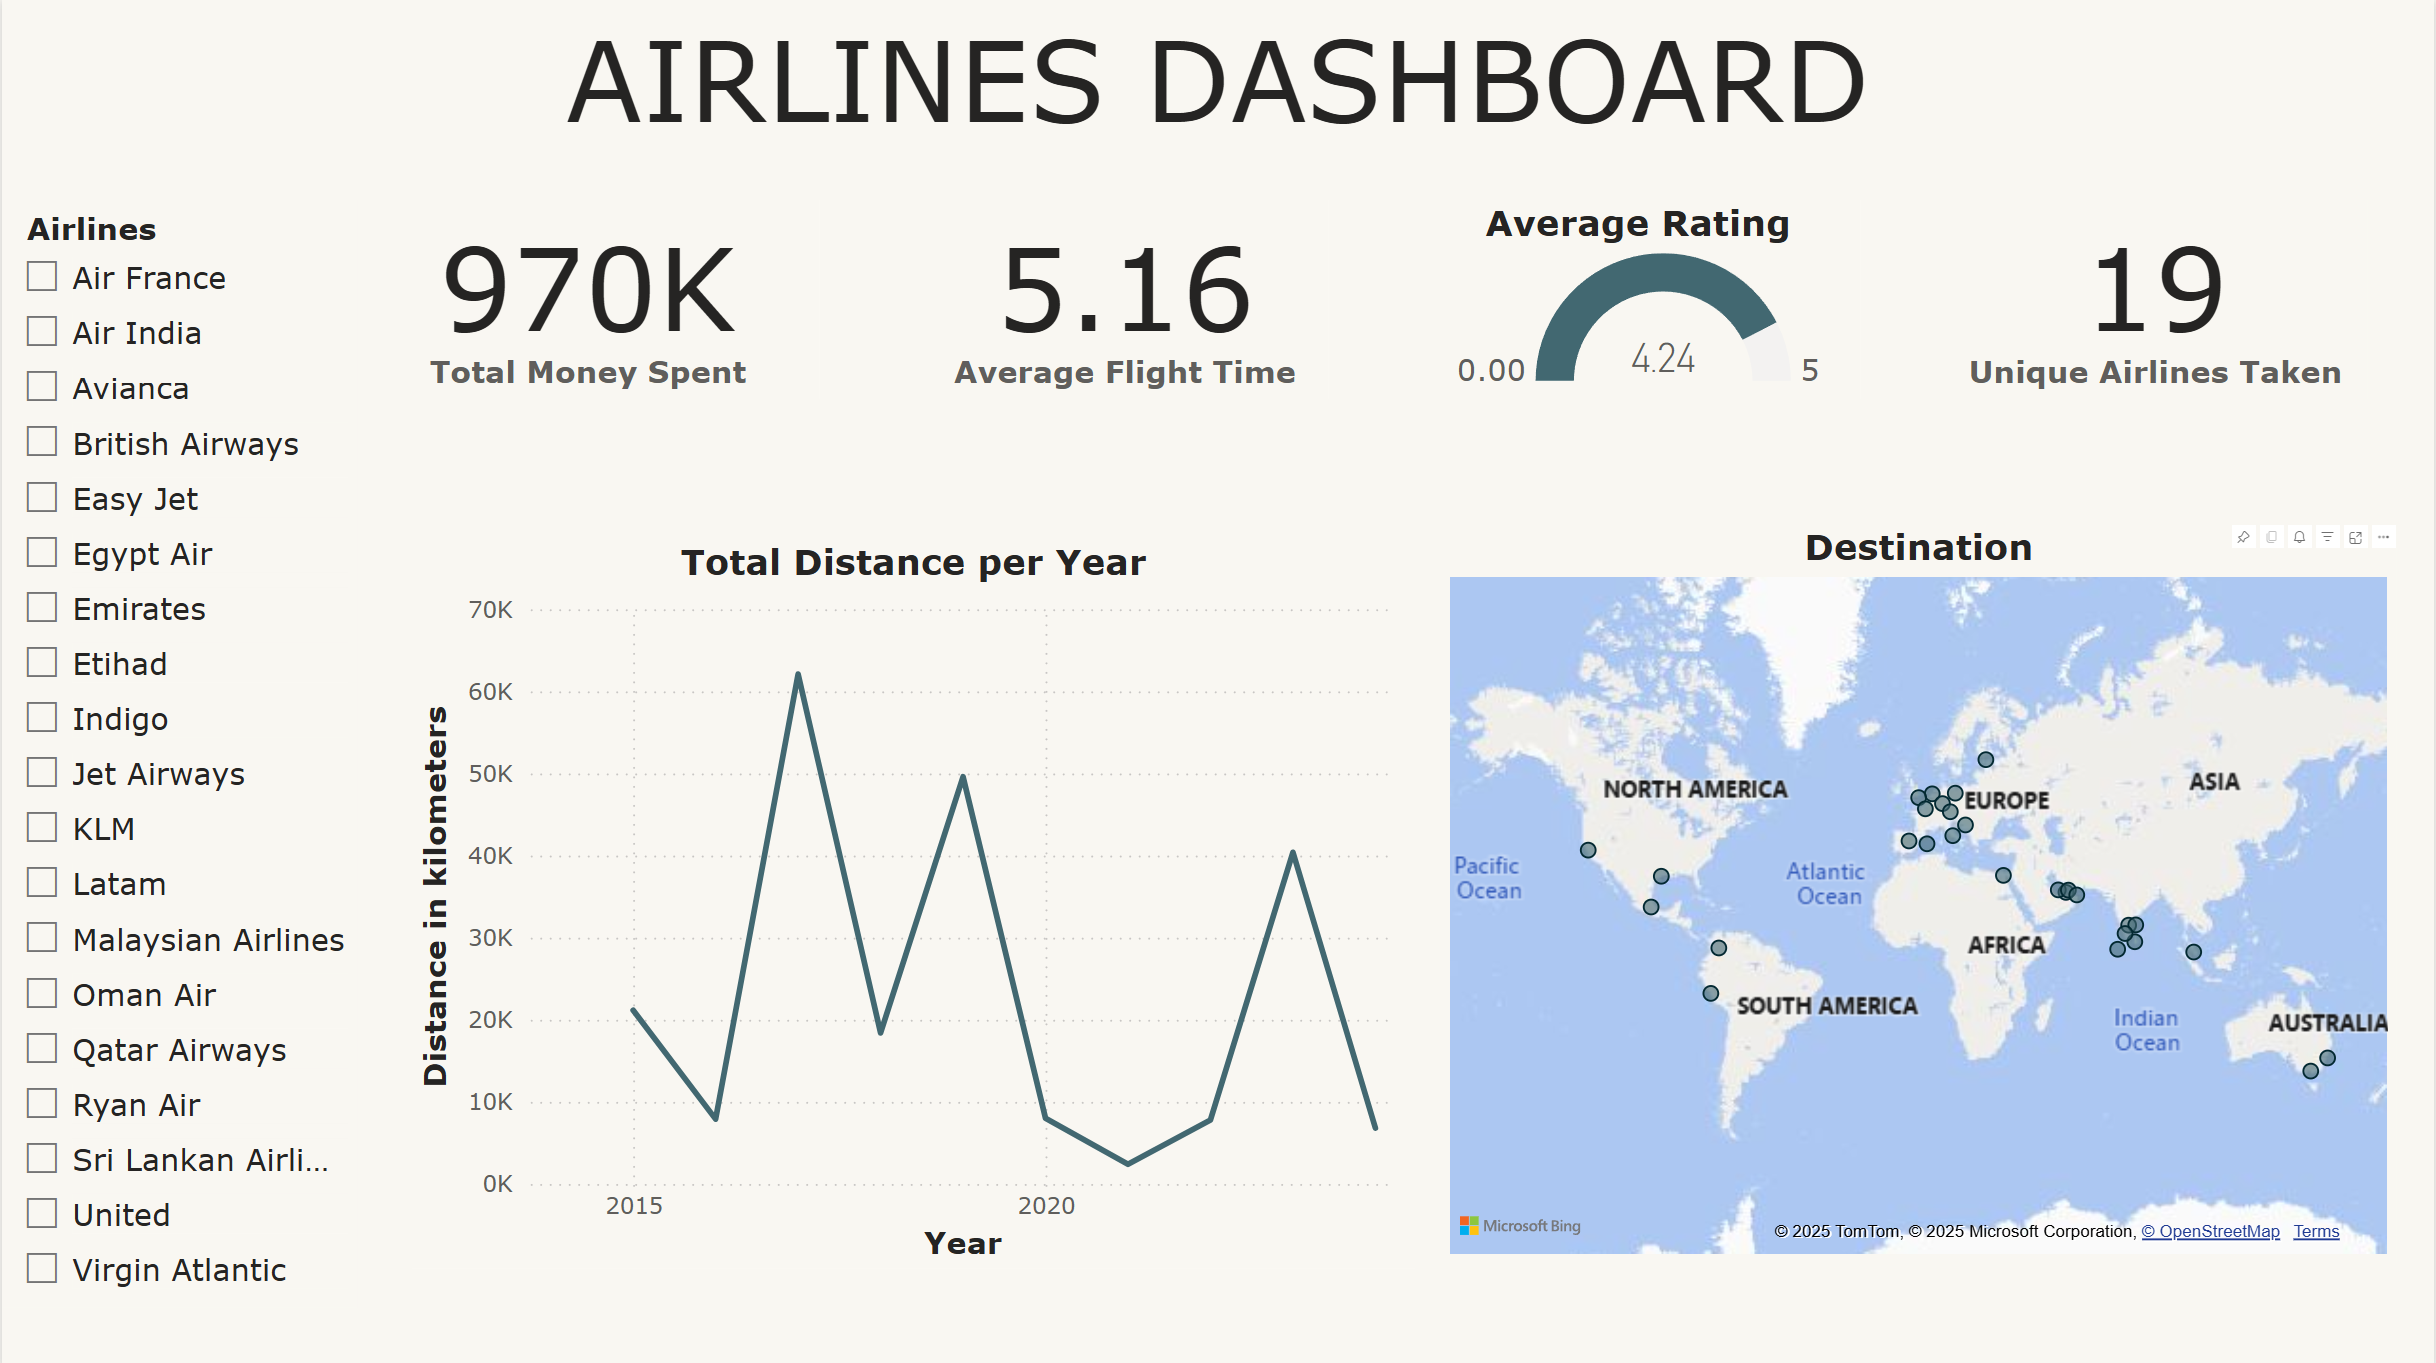

Layout of this report page (visuals, bound fields, positions):
{"tool":"powerbi","page":{"name":"Page 1","canvas":[1280,720],"ordinal":0},"visuals":[{"type":"card","fields":{"Values":["Sum(airlines-data - Sheet1.Cost_in_rupees)"]},"box":[186.6,105.2,244.2,105.2],"z":0},{"type":"textbox","box":[0,0,1280,105.2],"z":1000},{"type":"card","fields":{"Values":["Count(airlines-data - Sheet1.Airlines)"]},"box":[1022.2,105.2,222.8,105.2],"z":2000},{"type":"gauge","title":"Average Rating","fields":{"Y":["Avg(airlines-data - Sheet1.Rating_on_5)"],"MaxValue":["Max(airlines-data - Sheet1.Rating_on_5)1"]},"box":[744,105.2,234.1,105.2],"z":3000},{"type":"lineChart","title":"Total Distance per Year","fields":{"Category":["airlines-data - Sheet1.Year"],"Y":["Sum(airlines-data - Sheet1.Distance_in_kms)"]},"box":[216,283.8,528.1,384.5],"z":4000},{"type":"map","fields":{"Category":["airlines-data - Sheet1.Destination"]},"box":[757.6,275.9,503.2,389],"z":5000},{"type":"slicer","fields":{"Values":["airlines-data - Sheet1.Airlines"]},"box":[0,105.2,186.6,583.5],"z":6000},{"type":"card","fields":{"Values":["Avg(airlines-data - Sheet1.Time_in_hours)"]},"box":[484,105.2,213.7,105.2],"z":7000}]}

Visuals, with their boxes in screenshot pixels (x1, y1, x2, y2), scaled from the page's 1280x720 canvas onto the 2436x1363 screenshot:
card - Sum(airlines-data - Sheet1.Cost_in_rupees): (355,199,820,398)
textbox: (0,0,2435,199)
card - Count(airlines-data - Sheet1.Airlines): (1945,199,2369,398)
"Average Rating" gauge: (1416,199,1861,398)
"Total Distance per Year" lineChart: (411,537,1416,1265)
map - airlines-data - Sheet1.Destination: (1442,522,2399,1259)
slicer - airlines-data - Sheet1.Airlines: (0,199,355,1304)
card - Avg(airlines-data - Sheet1.Time_in_hours): (921,199,1328,398)
